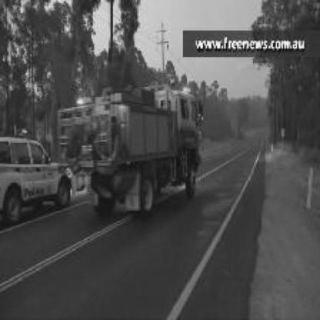other: (83, 89, 135, 138)
